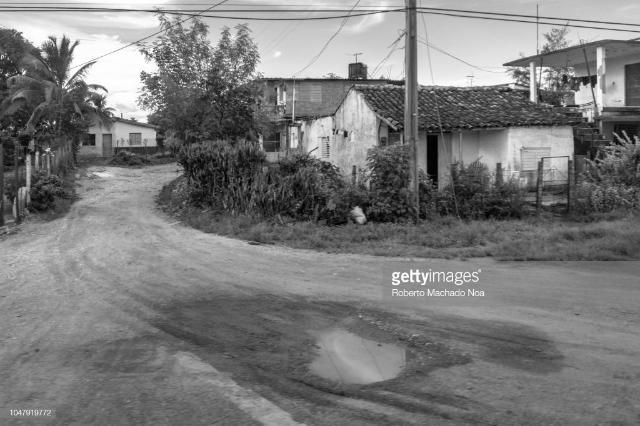Pothole: (282, 298, 448, 400)
